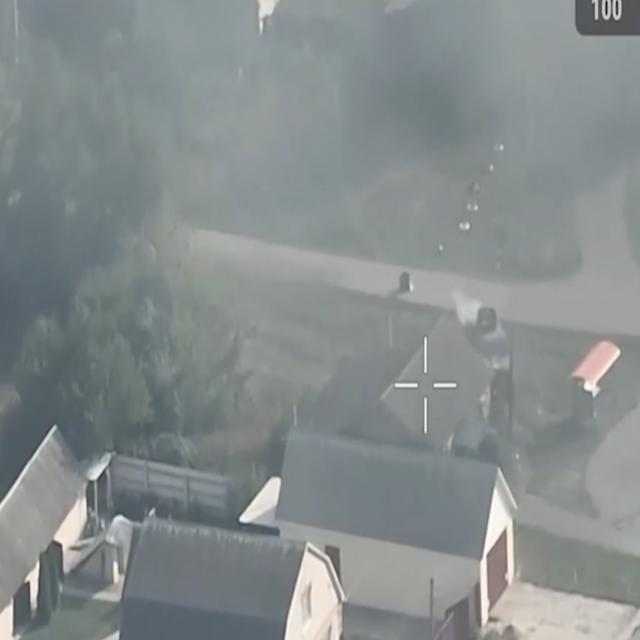vehicle: (398, 271, 415, 297)
